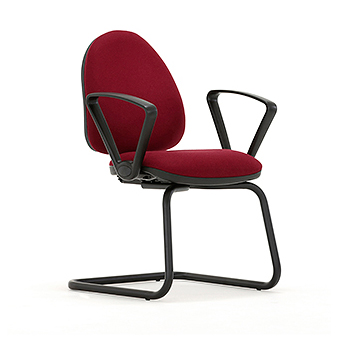chairs: (69, 29, 282, 301)
